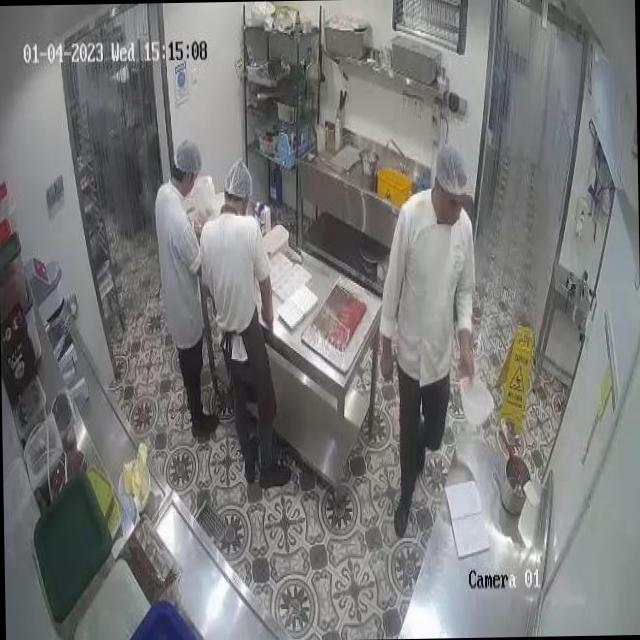hairnet: (434, 146, 464, 188), (172, 140, 201, 171), (224, 159, 254, 188)
